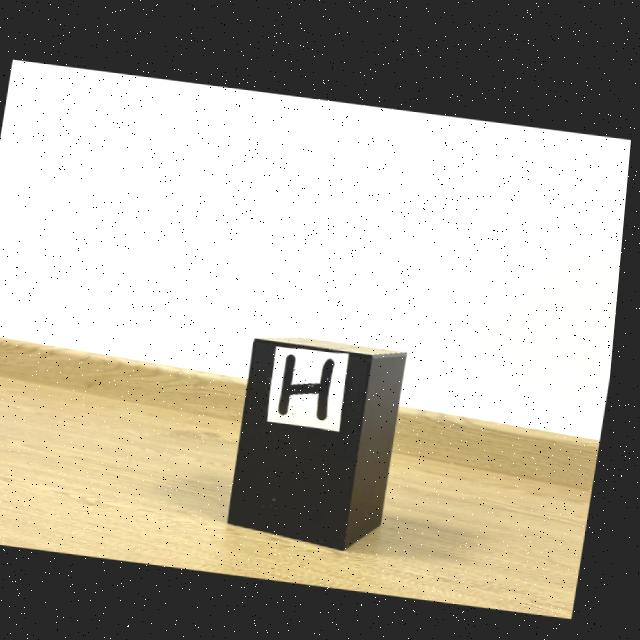H: (285, 351, 341, 416)
